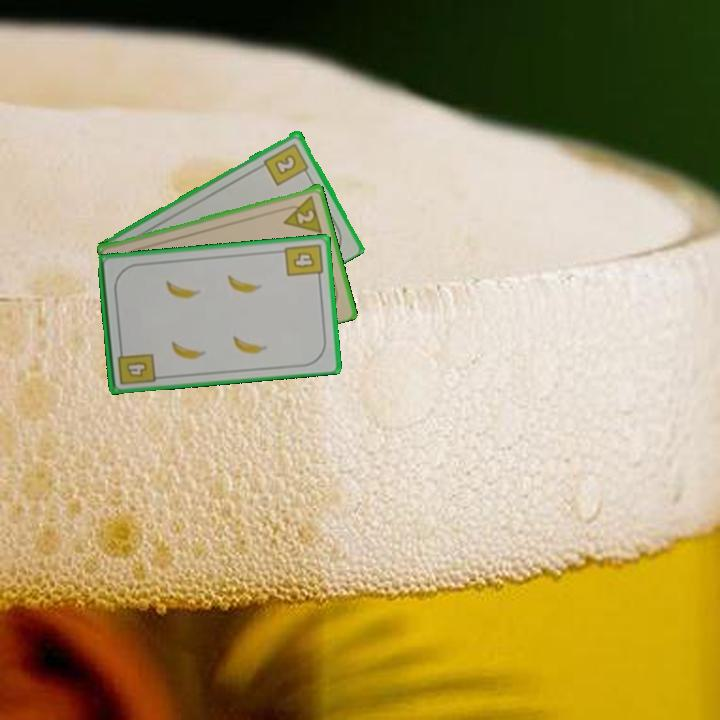2b: (260, 140, 312, 188)
2p: (278, 191, 325, 235)
4b: (114, 343, 158, 388), (281, 240, 325, 284)
